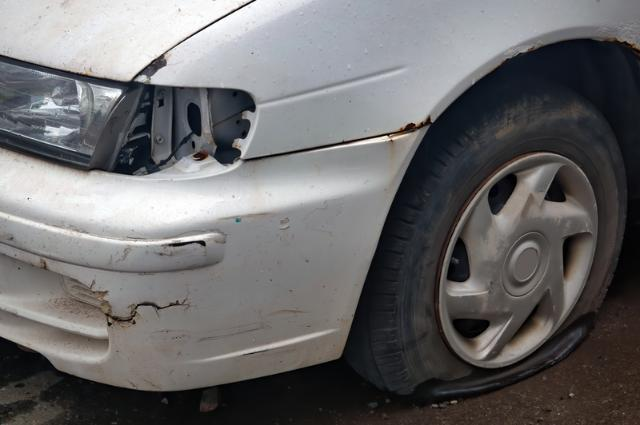Bumper: (30, 208, 259, 380)
Fender: (261, 52, 442, 142)
Light: (78, 75, 262, 173)
